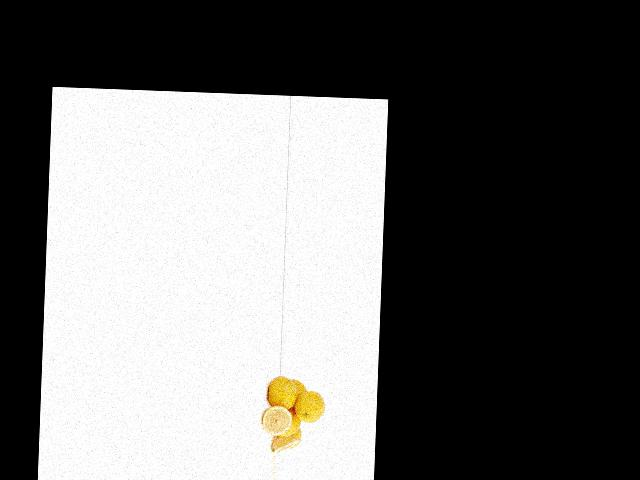lemon: (265, 376, 302, 412)
